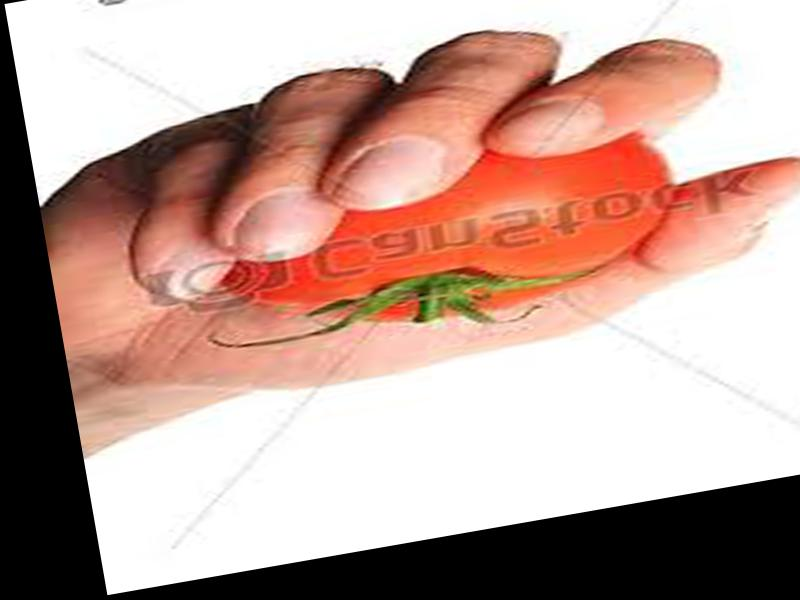Tomato: (211, 124, 686, 351)
